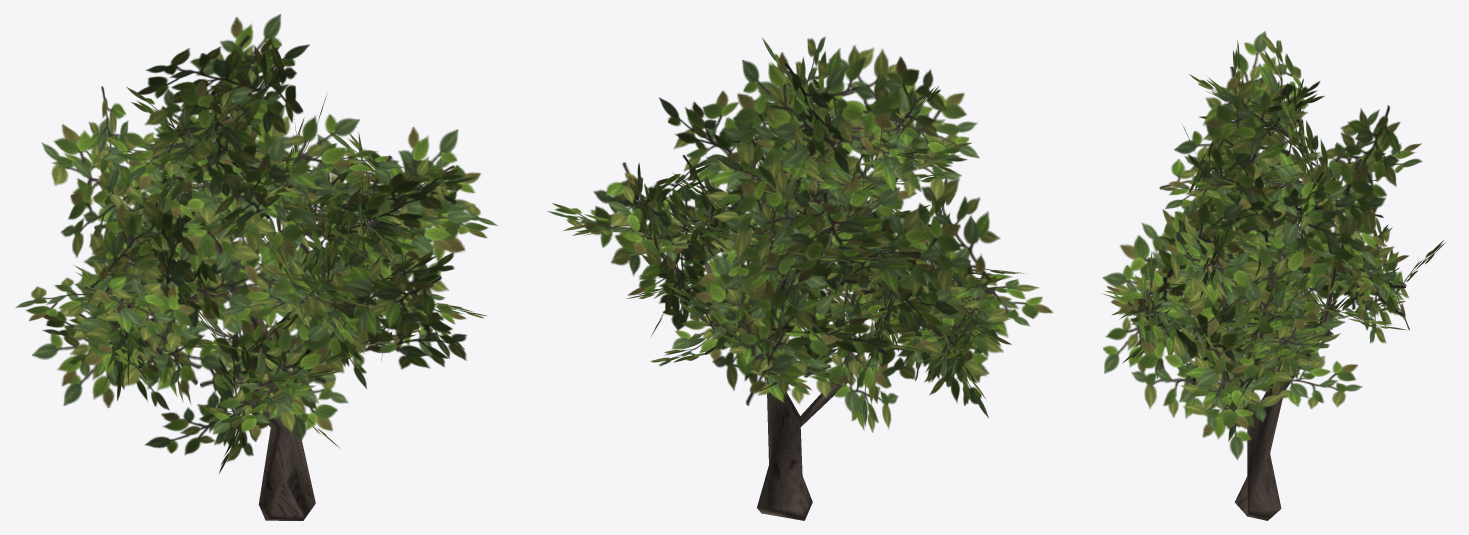
The model's file is realistic_tree.lod4.glb.
3 renders of one model, left to right at view 1: azimuth 30°, elevation 25°; view 2: azimuth 150°, elevation 25°; view 3: azimuth 270°, elevation 25°, orthographic. The views are drawn at different scales.
Parts seen in each view (by area): view 1: crown merged_normal leaves_0, br_low_trunk_0; view 2: crown merged_normal leaves_0, br_low_trunk_0; view 3: crown merged_normal leaves_0, br_low_trunk_0.
Part boxes in pixels (x1,y1,x2,y2): crown merged_normal leaves_0: (15, 14, 497, 473); br_low_trunk_0: (118, 112, 404, 520); crown merged_normal leaves_0: (547, 36, 1053, 432); br_low_trunk_0: (665, 126, 887, 520); crown merged_normal leaves_0: (1101, 31, 1445, 459); br_low_trunk_0: (1147, 118, 1376, 520).
Size of the model in its own units: 17.92 by 17.15 by 12.39.
Materials: 2 (2 with a texture image).
